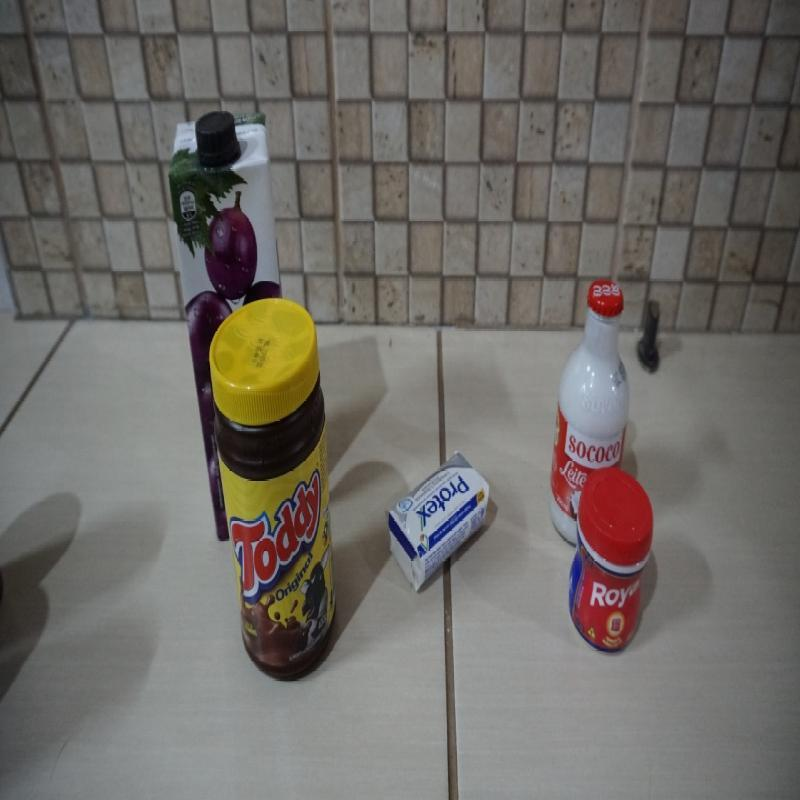Chocolate Powder: (208, 293, 340, 688)
Coconut Milk: (545, 280, 627, 546)
Soap: (386, 451, 490, 592)
Yeast: (566, 468, 656, 662)
